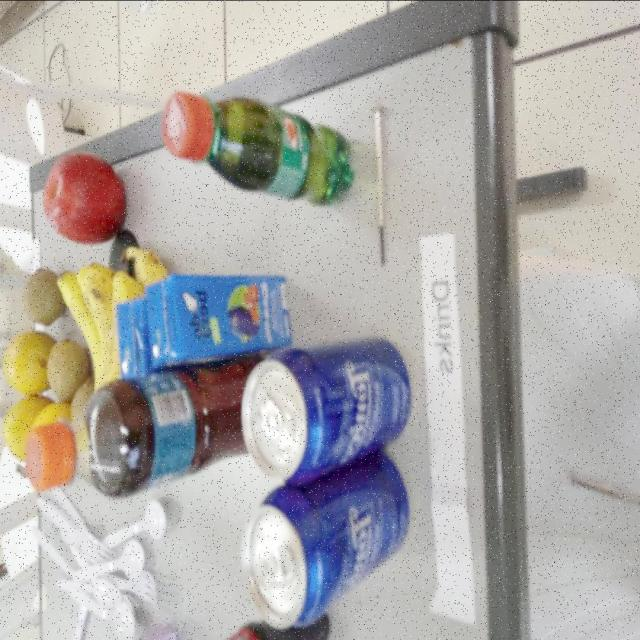Apple: (43, 151, 126, 247)
Banana: (54, 263, 139, 394)
CoconutWater: (145, 266, 297, 360), (116, 284, 158, 377)
Guarana: (161, 91, 362, 209)
IceTea: (27, 364, 270, 498)
Kiwi: (24, 266, 68, 324)
Orange: (6, 398, 64, 462), (3, 332, 56, 397)
Tonic: (238, 453, 413, 631), (242, 336, 409, 482)
